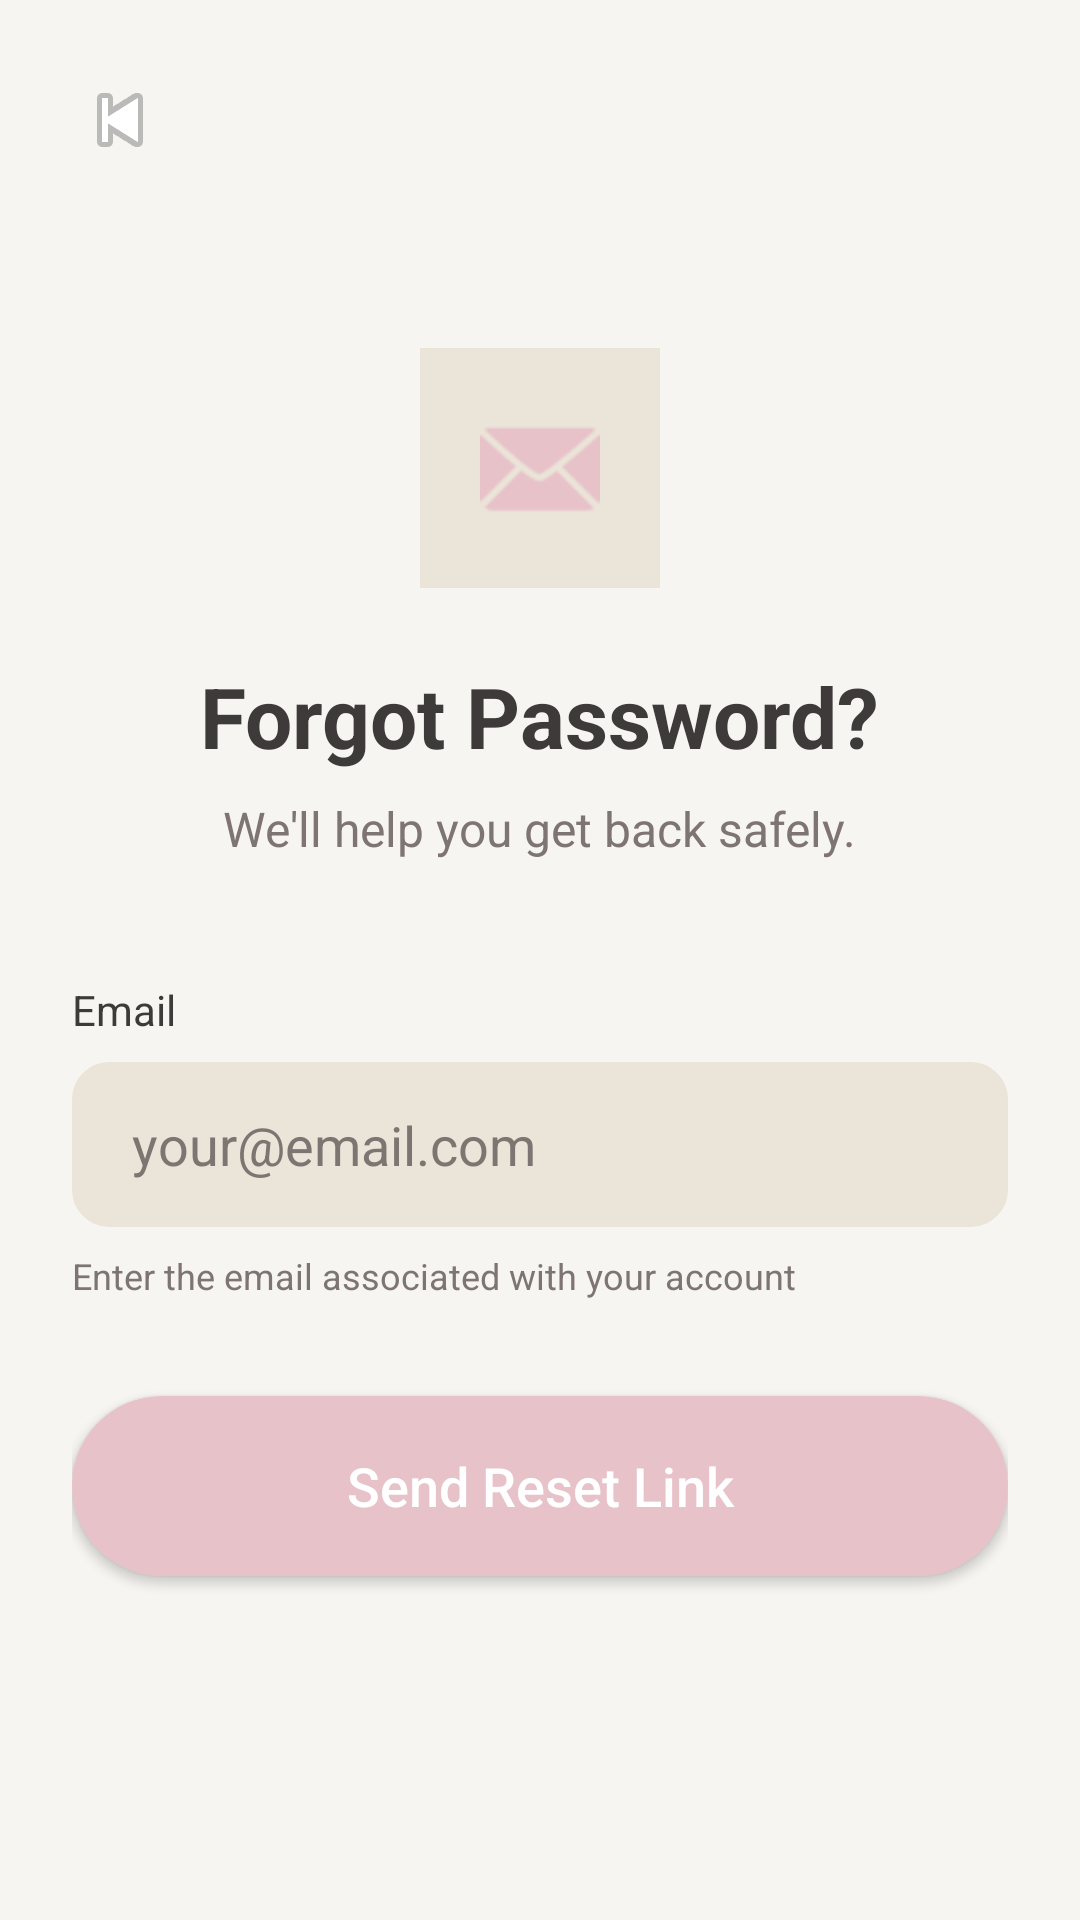

Icon bounding boxes for this 1080w x 1920h phone screenshot, format (x1, y1, x2, y2):
email: (420, 348, 660, 588)
